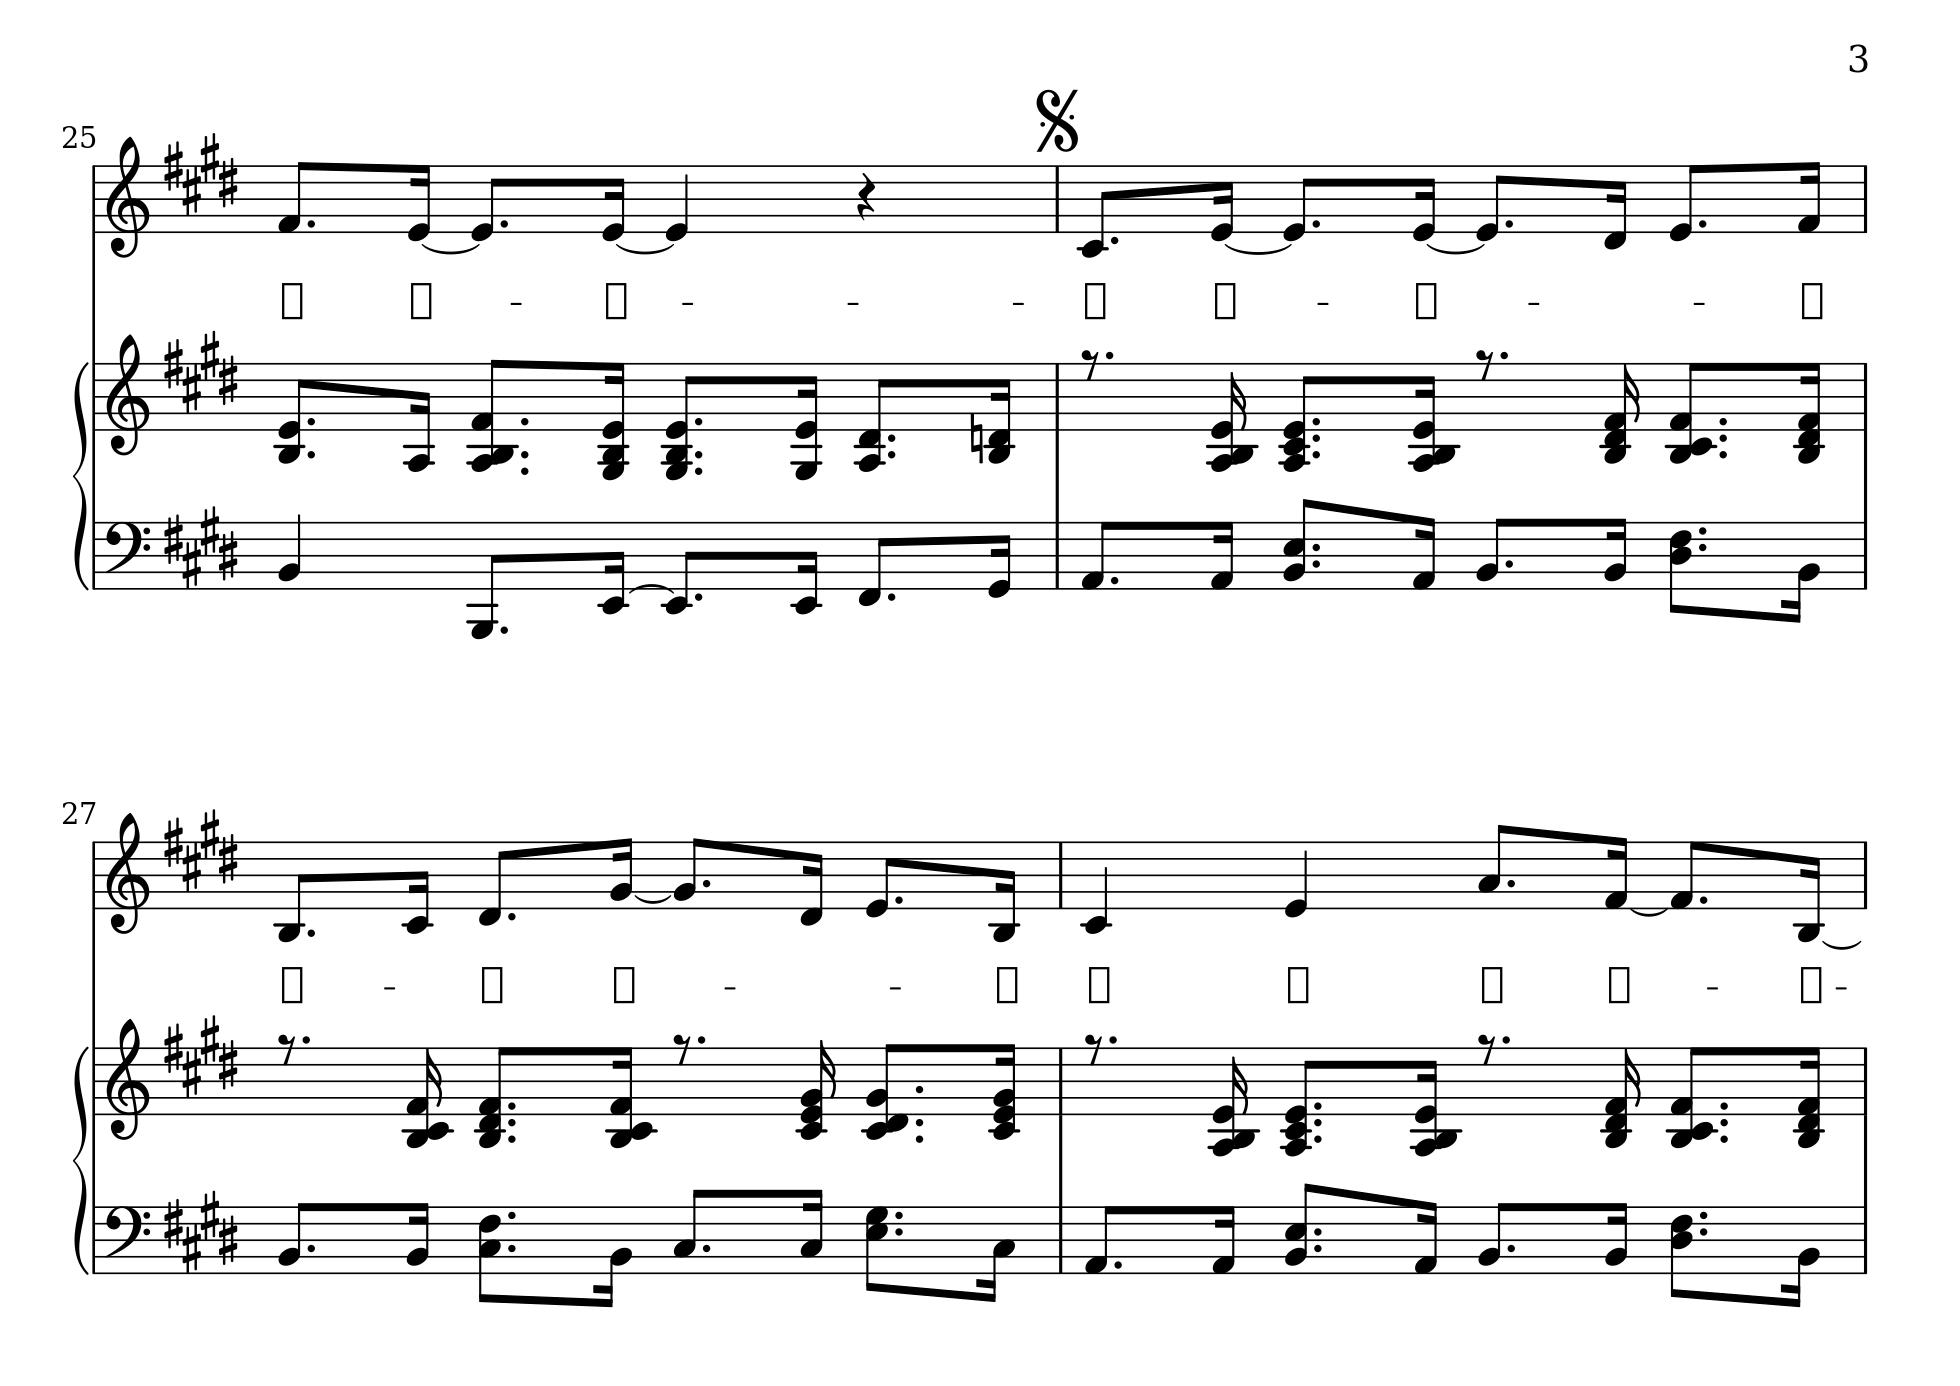16_-1: (1602, 163, 1629, 250), (799, 840, 825, 928)
16_-2: (598, 519, 628, 616), (402, 838, 432, 936), (790, 520, 820, 616)
16_-3: (990, 838, 1018, 943), (1795, 840, 1822, 943)
16_-4: (403, 360, 435, 475)
16_-5_0: (790, 361, 823, 481)
16_0: (1410, 163, 1438, 243), (406, 162, 433, 243), (600, 162, 627, 243), (1209, 163, 1236, 244), (987, 520, 1014, 601)
16_1: (1410, 514, 1438, 591), (1413, 1198, 1440, 1276), (1209, 519, 1236, 592), (1603, 834, 1629, 910), (1210, 1204, 1237, 1276), (1797, 160, 1822, 234)
16_2: (1782, 1203, 1821, 1308), (1782, 519, 1821, 622), (595, 1203, 631, 1306), (1602, 516, 1629, 591), (405, 1200, 430, 1276), (609, 835, 634, 910), (1603, 1201, 1629, 1276)
16_3: (978, 1204, 1017, 1303), (799, 1186, 825, 1275)
16_th: (1413, 1045, 1467, 1158), (1410, 361, 1464, 472), (1207, 1047, 1261, 1158), (1207, 361, 1260, 474), (607, 1045, 658, 1150), (403, 1047, 453, 1150), (793, 1039, 840, 1141), (1599, 361, 1641, 466), (1600, 1047, 1641, 1150), (598, 360, 631, 481), (1795, 360, 1825, 466), (1795, 1045, 1825, 1150), (990, 1042, 1021, 1141)
2: (58, 799, 79, 825), (60, 123, 79, 150)
3: (1848, 40, 1870, 73)
4_-2: (1081, 838, 1110, 934)
4_0: (663, 162, 691, 244), (1284, 838, 1309, 919)
4_2: (277, 511, 304, 591)
5: (79, 121, 97, 150)
7: (78, 796, 97, 825)
8_-1: (855, 519, 889, 607), (475, 838, 510, 925)
8_-2: (1077, 163, 1113, 259), (661, 520, 697, 615)
8_-3: (274, 838, 310, 942)
8_-3_0: (271, 361, 306, 463)
8_-4_-1: (850, 361, 889, 472)
8_-5: (466, 519, 502, 640)
8_0: (469, 162, 502, 243), (1668, 162, 1701, 243), (1474, 162, 1507, 241), (1282, 163, 1314, 243), (864, 840, 895, 919)
8_1: (1668, 838, 1704, 910), (274, 159, 309, 234), (1080, 520, 1113, 592), (1083, 1204, 1116, 1276)
8_2: (277, 1198, 310, 1275), (1474, 516, 1507, 591), (1476, 1200, 1509, 1275), (672, 835, 703, 910)
8_2_5: (1281, 496, 1317, 592), (1281, 1182, 1317, 1276)
8_3: (670, 1186, 706, 1276), (1477, 822, 1512, 910)
8_3_6: (477, 1203, 505, 1303)
8_4_6: (1669, 1204, 1696, 1300), (1669, 520, 1695, 613)
8_5_7: (862, 1203, 891, 1294)
8_th: (468, 357, 519, 475), (1665, 1045, 1719, 1150), (1668, 361, 1716, 466), (862, 1044, 910, 1143), (1279, 1048, 1315, 1158), (663, 364, 693, 486), (1281, 364, 1314, 472), (477, 1047, 508, 1149)
B_S: (160, 132, 243, 217), (160, 330, 241, 415), (160, 1015, 241, 1101), (160, 808, 241, 892), (160, 1189, 241, 1273), (162, 505, 240, 589)
Brace: (70, 1044, 88, 1279), (70, 358, 88, 592)
Fclef: (103, 1203, 153, 1275), (103, 519, 151, 592)
Gclef: (103, 1015, 153, 1141), (103, 133, 151, 259), (103, 331, 151, 457), (103, 811, 151, 934)
Natural: (967, 411, 984, 466)
Rests4: (855, 171, 877, 223)
Rests8: (274, 1030, 298, 1065), (670, 1030, 693, 1065), (1476, 1030, 1497, 1065), (1080, 348, 1101, 381), (1083, 1032, 1104, 1065), (1474, 346, 1494, 379)
Segno: (1032, 84, 1081, 154)
Single_barline: (1048, 522, 1068, 588), (1051, 1206, 1071, 1272), (1857, 163, 1875, 232), (1857, 361, 1873, 430), (1857, 841, 1873, 910), (1857, 1204, 1873, 1273), (1857, 1047, 1873, 1114), (1050, 166, 1066, 232), (1050, 363, 1066, 429), (1857, 522, 1873, 588), (1053, 1048, 1069, 1113), (85, 841, 100, 909), (1054, 841, 1069, 907), (87, 163, 100, 234), (88, 361, 102, 430), (88, 1047, 102, 1116), (88, 1204, 102, 1273), (88, 520, 102, 588)
Slur: (1225, 240, 1293, 255), (420, 241, 481, 253), (615, 241, 676, 253), (1426, 241, 1486, 253), (628, 582, 673, 594), (631, 892, 673, 904), (1821, 937, 1863, 949), (1629, 907, 1669, 916)
dot: (1695, 522, 1710, 538), (496, 216, 511, 231), (1107, 232, 1122, 247), (517, 462, 532, 477), (1696, 1206, 1711, 1221), (1696, 1222, 1711, 1237), (1717, 412, 1731, 429), (505, 1206, 519, 1222), (1309, 216, 1323, 231), (1695, 216, 1710, 229), (517, 414, 531, 429), (691, 414, 705, 429), (885, 430, 898, 445), (1311, 430, 1324, 445), (519, 445, 532, 460), (691, 463, 706, 477), (1696, 538, 1710, 553), (1309, 556, 1324, 570), (1107, 573, 1122, 586), (691, 589, 705, 604), (496, 622, 510, 637), (699, 876, 714, 889), (1696, 892, 1711, 906), (1107, 1033, 1122, 1047), (913, 1114, 927, 1129), (913, 1129, 927, 1144), (505, 1131, 520, 1144), (892, 1224, 907, 1237), (1311, 1224, 1326, 1237), (505, 1240, 519, 1255), (1312, 1240, 1326, 1255), (1111, 1257, 1125, 1272), (304, 924, 316, 940), (1503, 216, 1516, 229), (1104, 349, 1117, 363), (1498, 349, 1512, 363), (1717, 430, 1731, 444), (693, 447, 706, 460), (1311, 447, 1324, 460), (1309, 540, 1323, 553), (885, 589, 898, 603), (1504, 876, 1518, 889), (892, 892, 906, 906), (505, 909, 519, 922), (1312, 1099, 1326, 1113), (505, 1114, 519, 1128), (1312, 1114, 1326, 1128), (1719, 1116, 1732, 1129), (1312, 1131, 1326, 1144), (1719, 1131, 1732, 1144), (892, 1207, 906, 1221), (306, 445, 318, 460), (1719, 445, 1731, 460), (913, 1081, 925, 1096), (1719, 1098, 1731, 1113), (700, 1240, 712, 1255), (304, 1240, 316, 1255), (1506, 1240, 1518, 1255), (304, 216, 316, 229), (304, 414, 316, 427), (1311, 414, 1323, 427), (886, 447, 898, 460), (1503, 556, 1515, 570), (505, 1098, 517, 1111), (300, 1033, 312, 1045), (696, 1033, 708, 1045), (1501, 1033, 1512, 1045)
